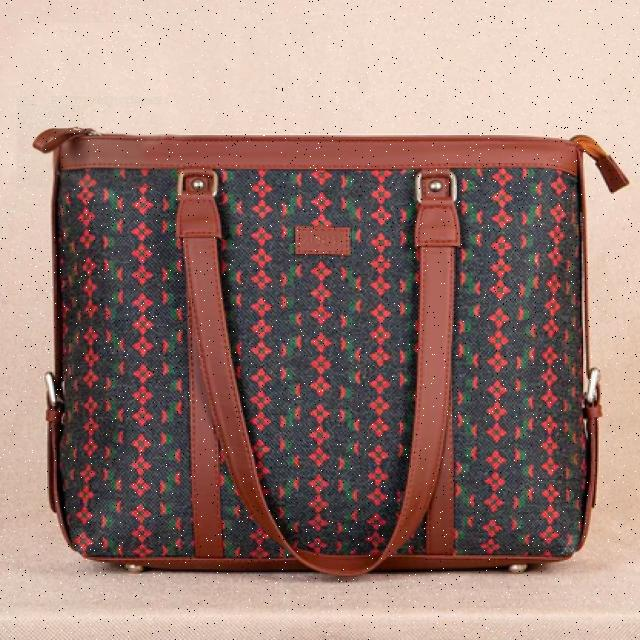handbag: (32, 126, 628, 575)
